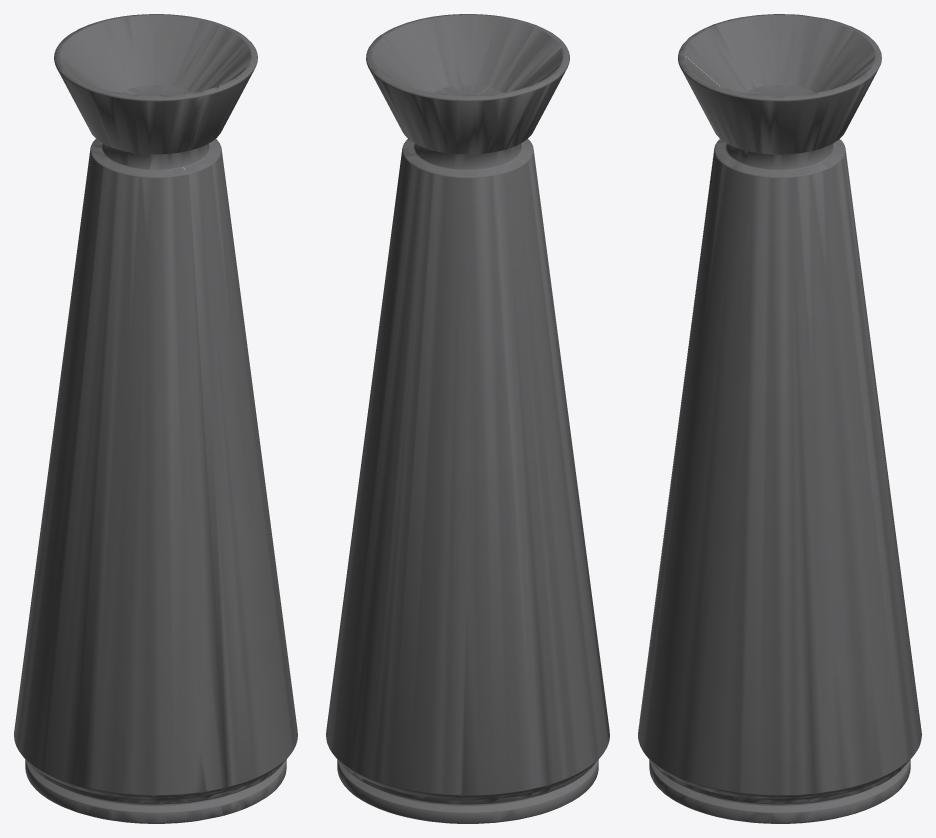
The model's file is queen-black.glb.
3 renders of one model, left to right at view 1: azimuth 30°, elevation 25°; view 2: azimuth 150°, elevation 25°; view 3: azimuth 270°, elevation 25°, orthographic.
Parts seen in each view (by area): view 1: 02_dama_cerna; view 2: 02_dama_cerna; view 3: 02_dama_cerna.
Boxes of the visible parts, x1,y1,x2,y2 form: 02_dama_cerna: [14, 14, 297, 823]; 02_dama_cerna: [326, 14, 609, 823]; 02_dama_cerna: [638, 14, 921, 823].
Size of the model in its own units: 0.5836 by 1.62 by 0.5832.
1 material, 1 textured.
